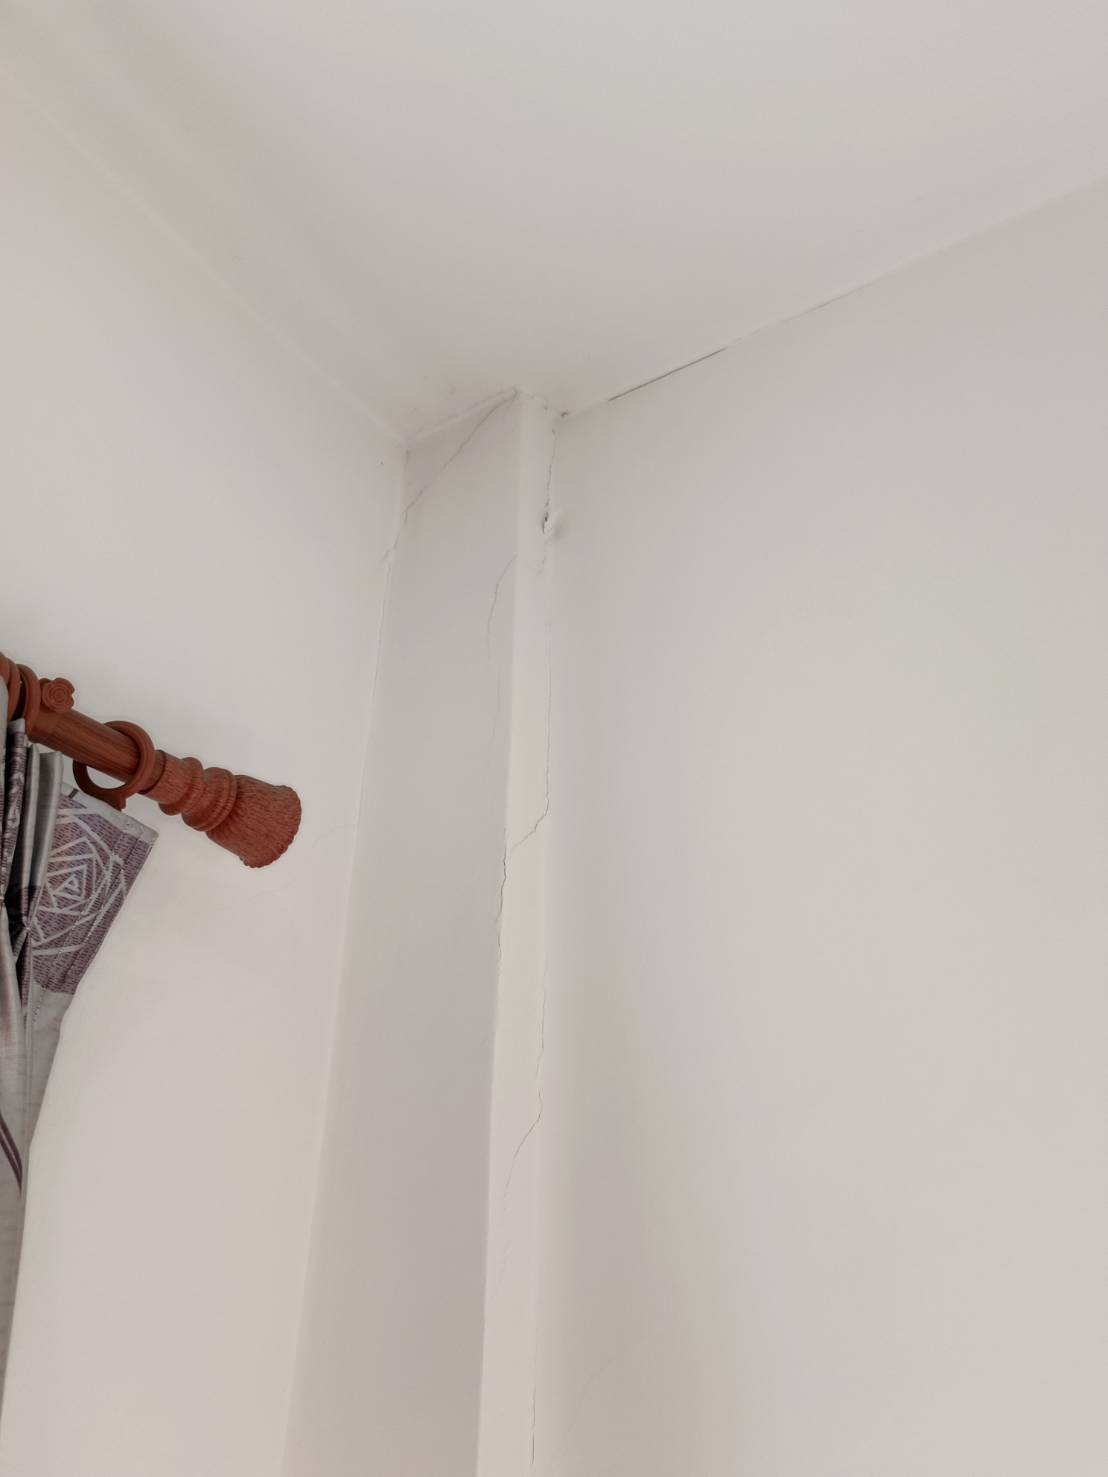Low: (398, 306, 739, 1254)
